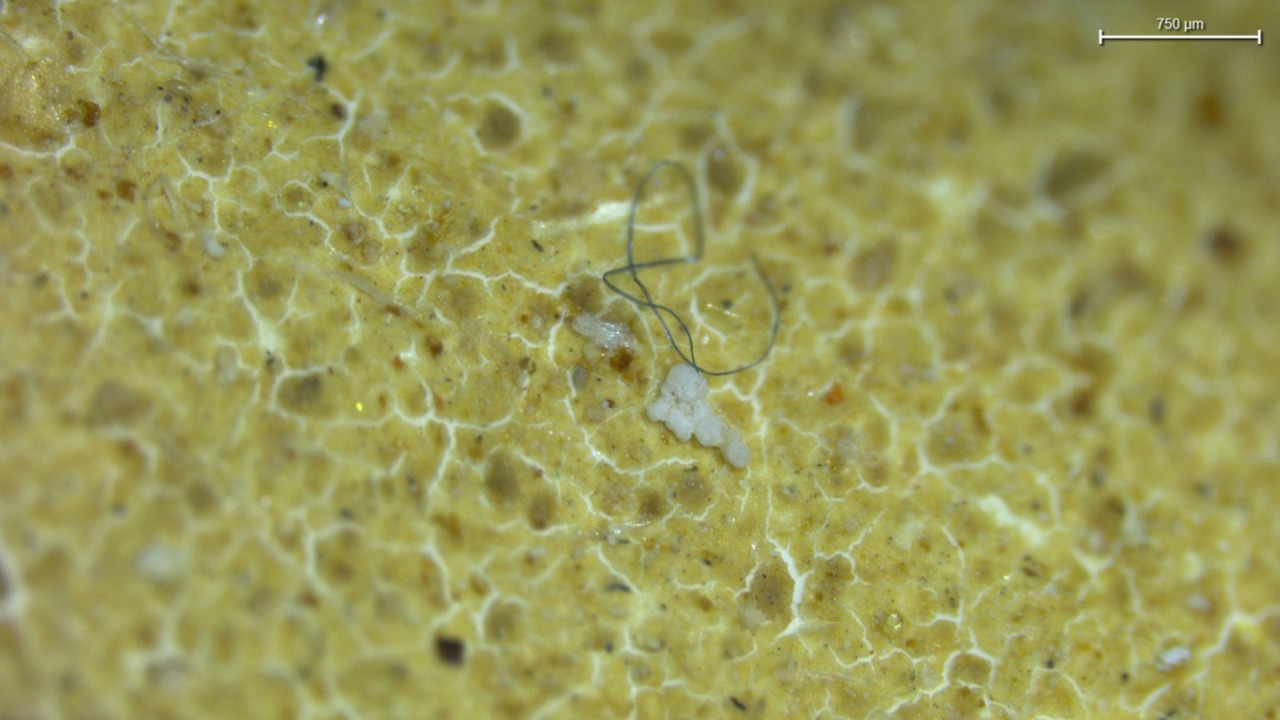microplastic_fragment: (647, 364, 749, 467), (571, 313, 637, 349)
